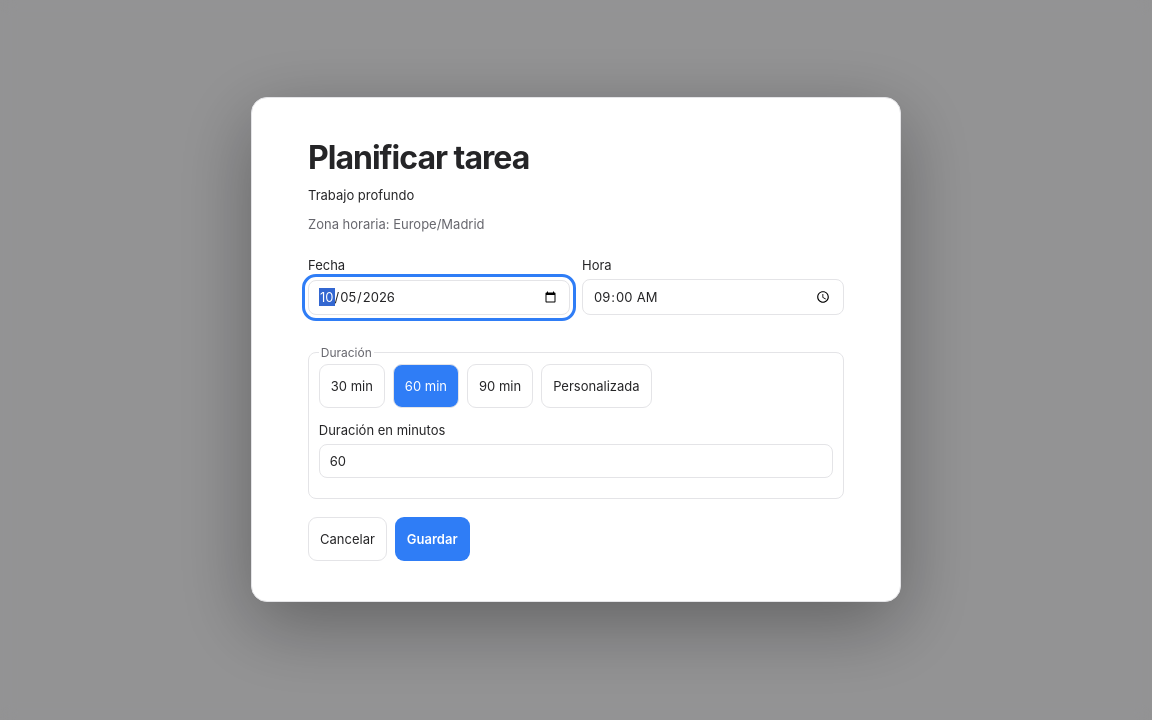
Test: schedule command paths and validation › rejects invalid date without mutation
The image size is (1152, 720).
Clear the date field labelled "Fecha": (439,297) [308, 280, 570, 315]
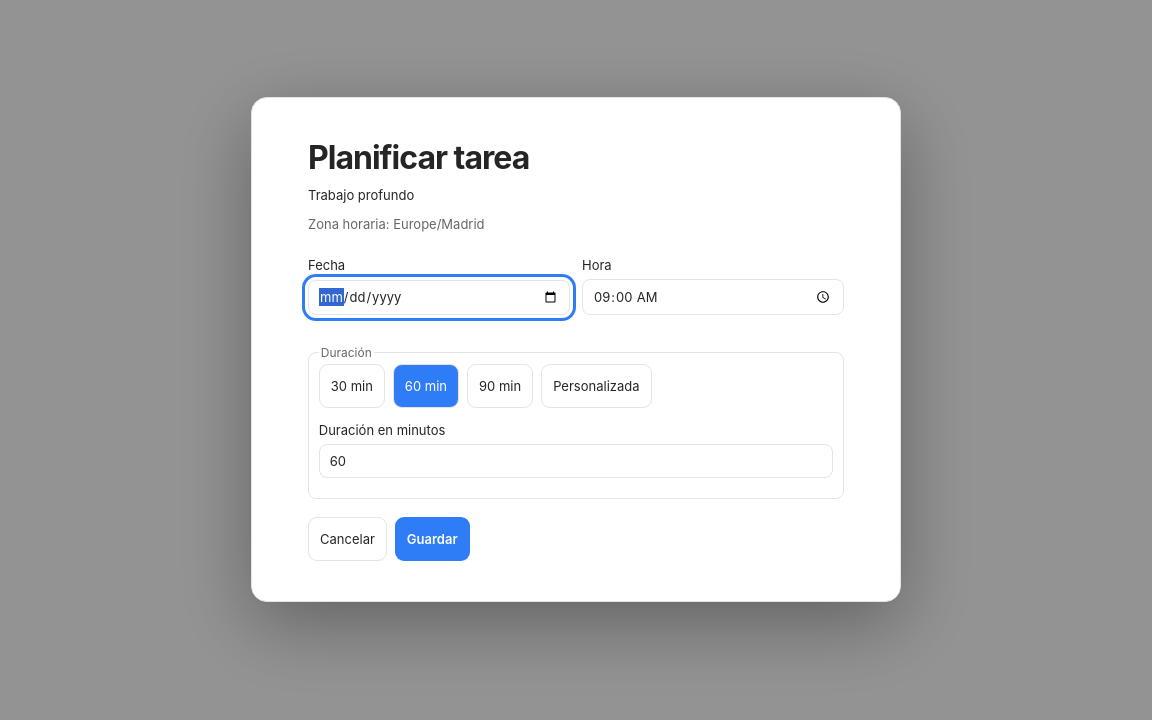
Submit the form named "Guardar", box [296, 126, 856, 573]
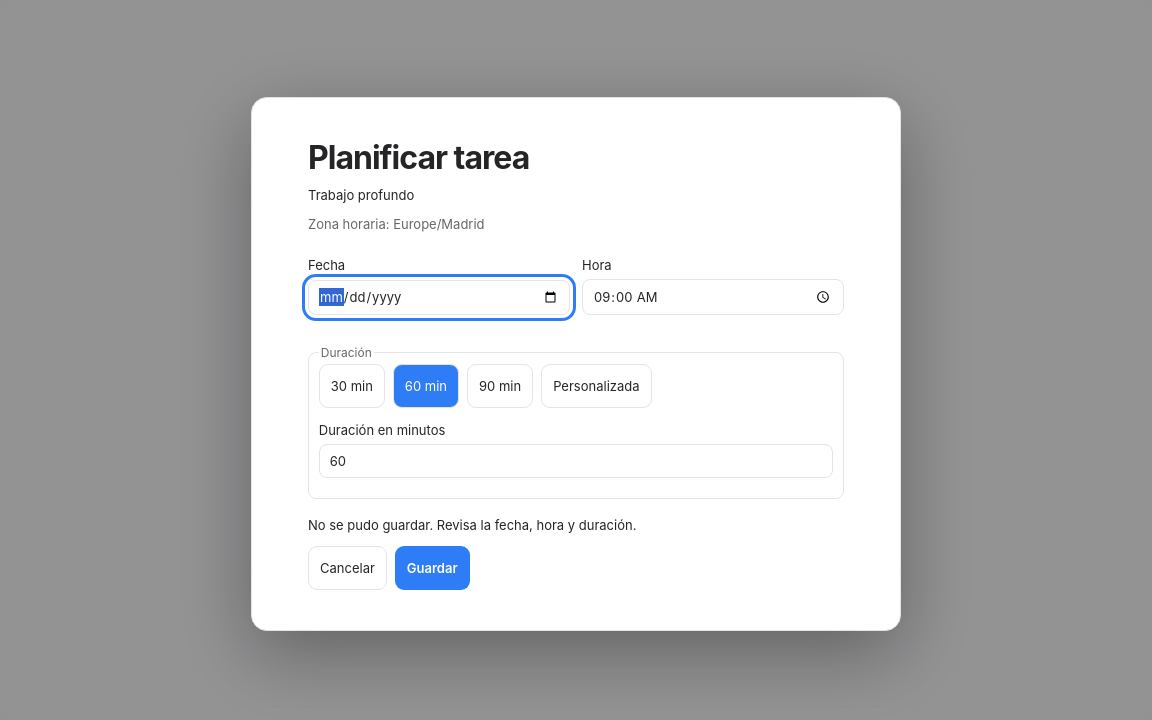
Expected: the message "No se pudo guardar. Revisa la fecha, hora y duración." is shown, [308, 517, 636, 533]
